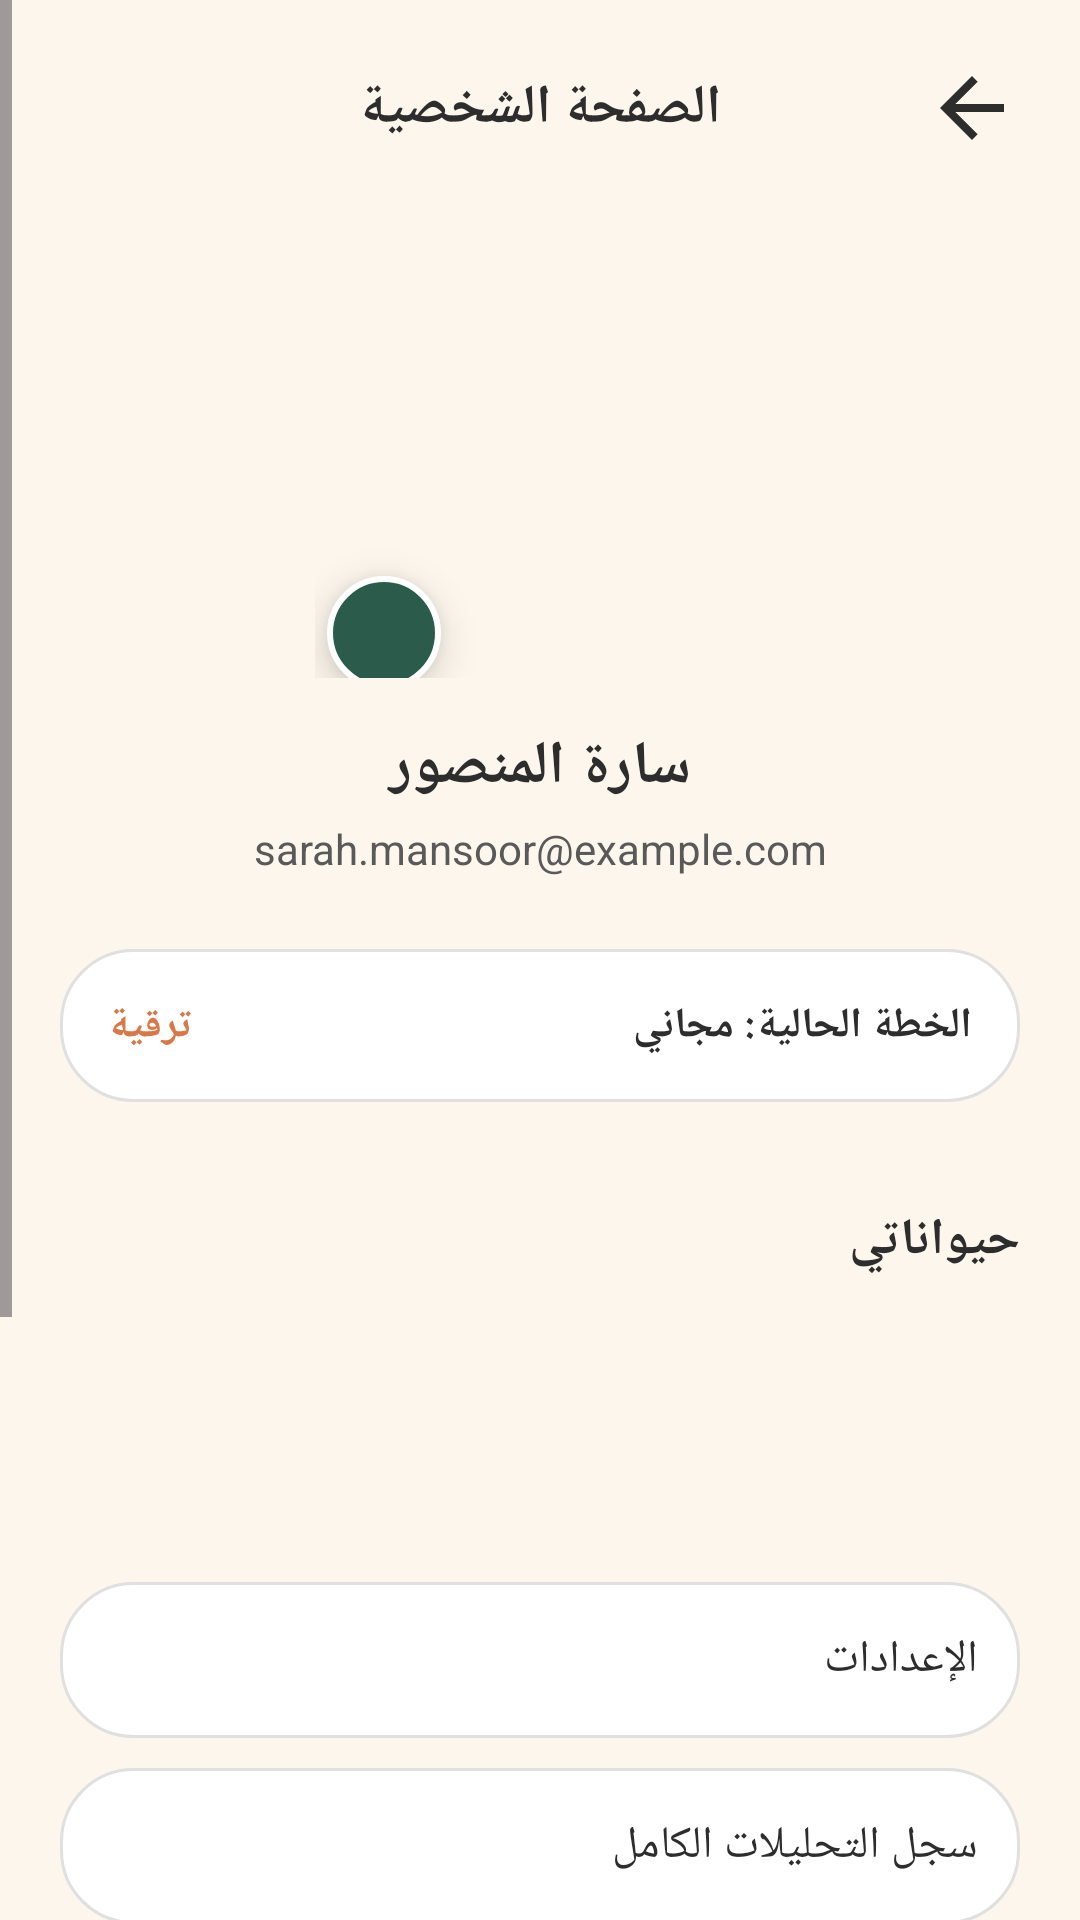

Named icons in this screenshot (1080 × 1920) and their bounding boxes, bbox=(x1, y1, x2, y2):
رجوع: bbox=(940, 76, 1004, 140)
